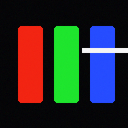3 line_h: (82, 48, 127, 52)
